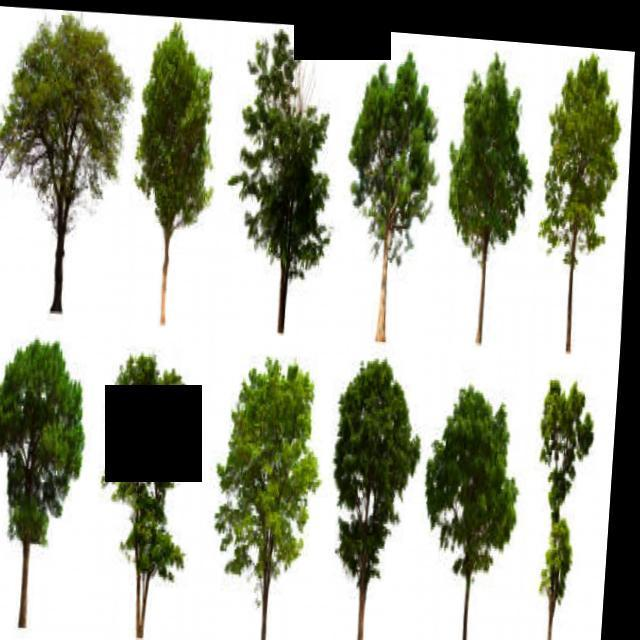tree: (219, 20, 353, 349), (213, 323, 340, 640), (0, 5, 127, 314), (416, 330, 542, 640), (100, 320, 218, 640), (324, 328, 435, 640), (523, 39, 628, 367), (336, 35, 449, 338), (0, 326, 108, 636), (439, 29, 542, 345), (512, 345, 614, 640), (123, 19, 214, 322)
